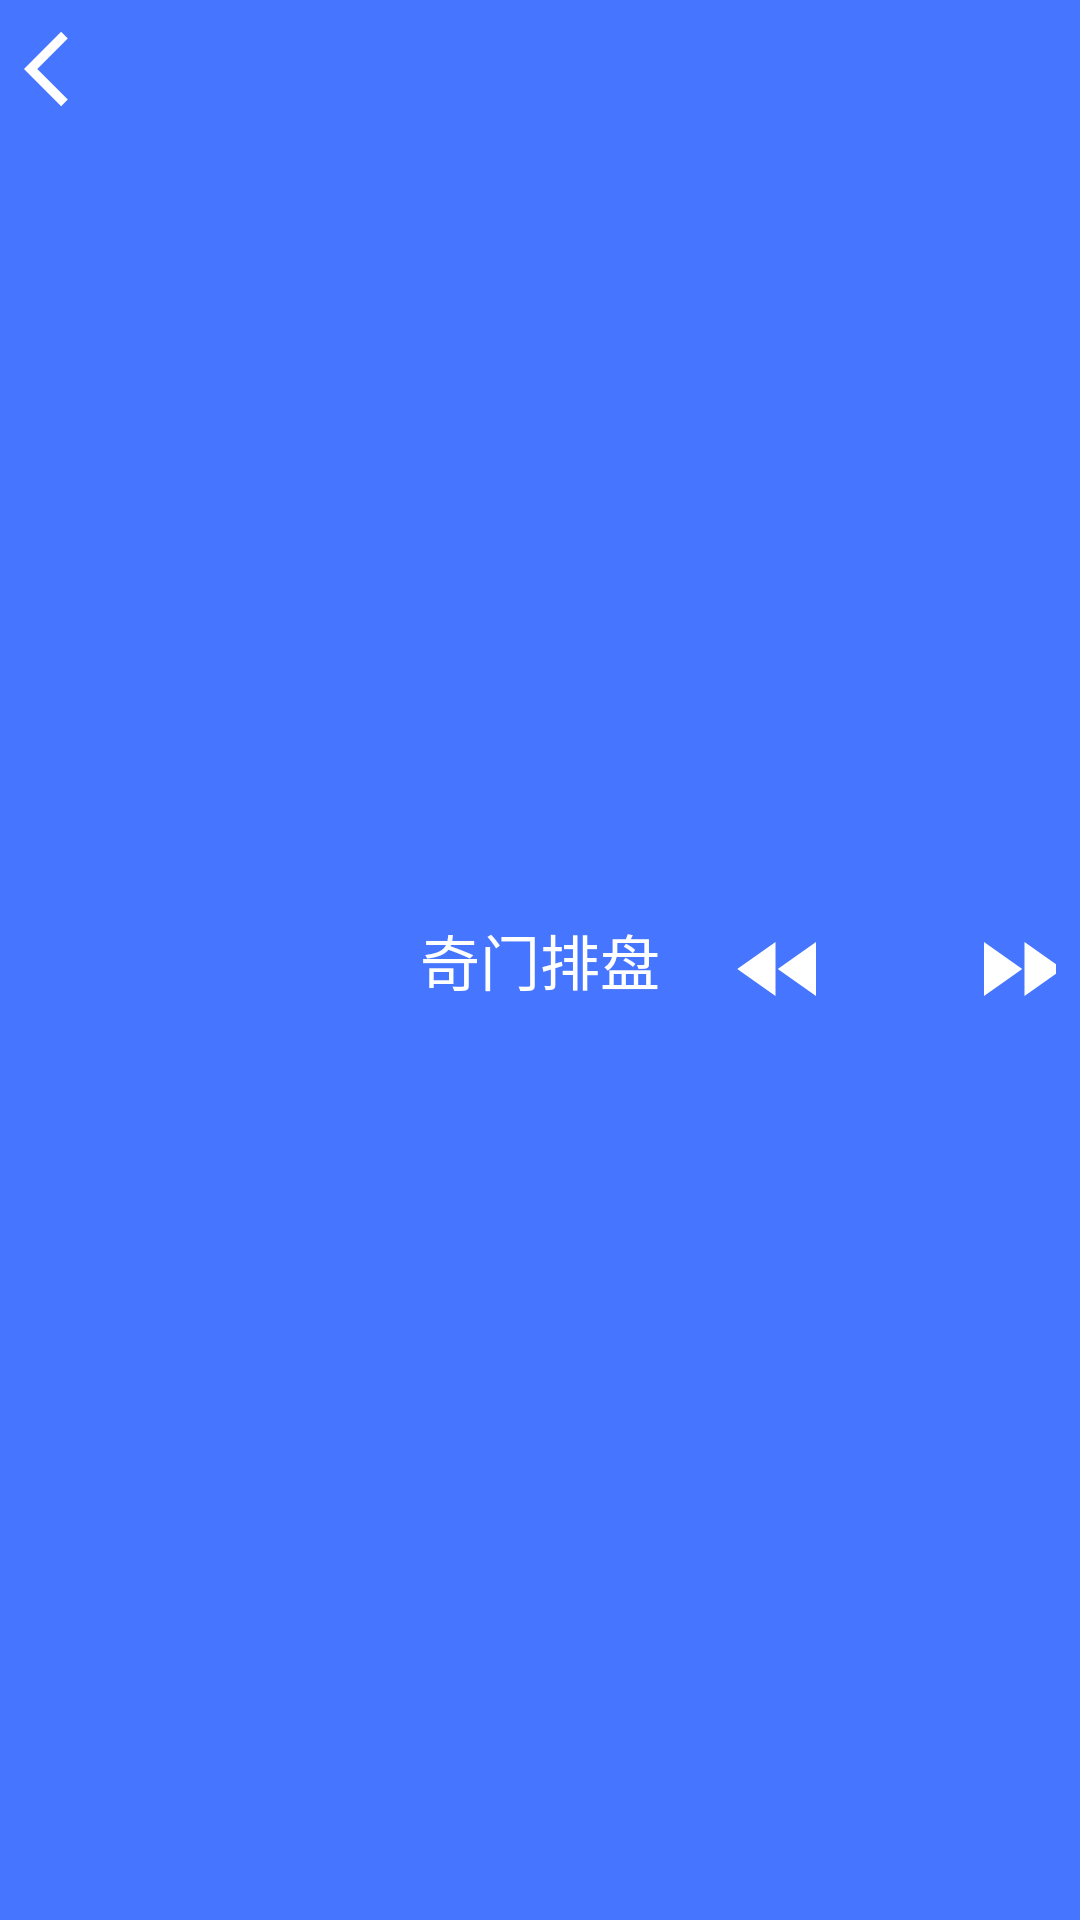

Point at icon controls on the screen. Image size 1080 × 1920, points as (x,y).
back: (46,69)
last: (776,969)
next: (1020,969)
